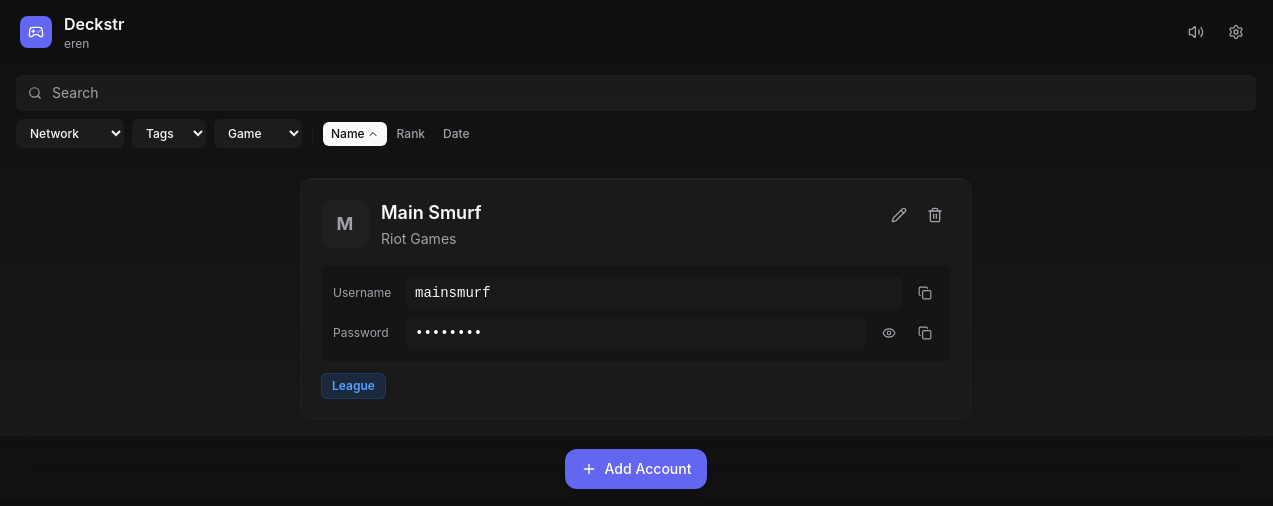
AccountList — sound mute toggle › switches icon + aria-label when toggled
The image size is (1273, 506).
Click the button named "mute sounds". click: x=1196, y=32
box: top-left (1180, 16), bottom-right (1212, 48)
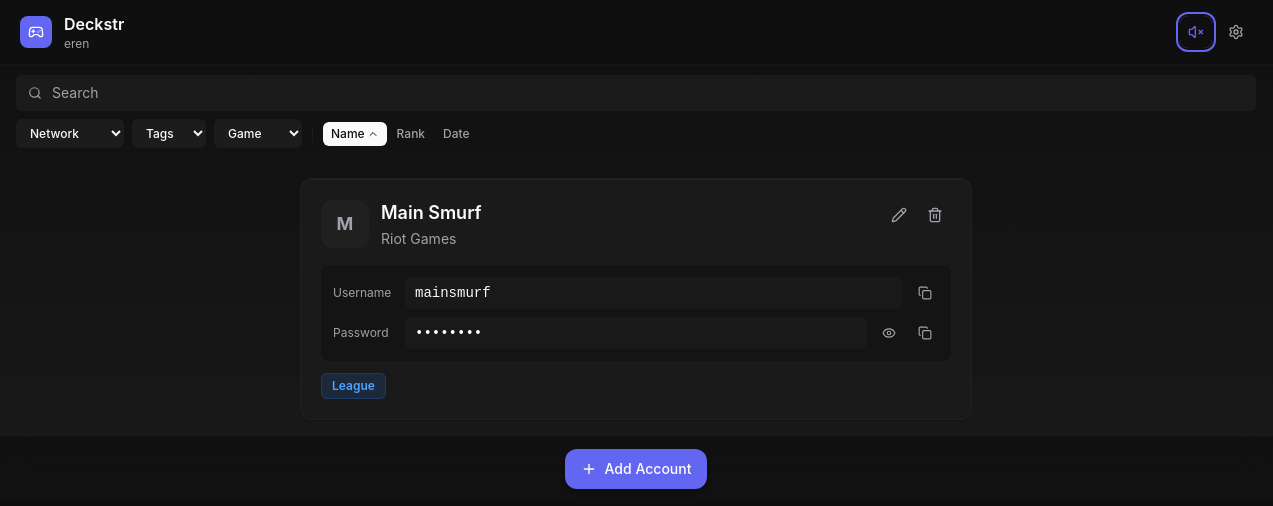
expect the button named "enable sounds" is shown: met, box top-left (1180, 16), bottom-right (1212, 48)
